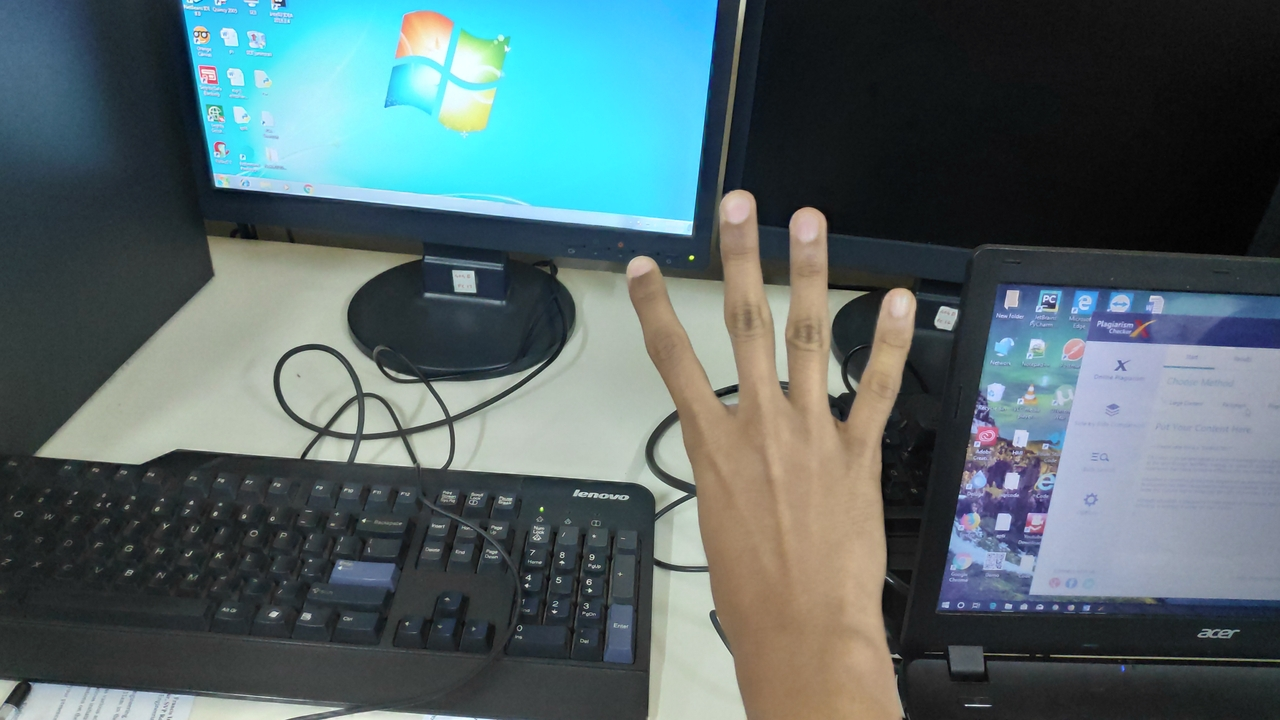fingertip: (612, 248, 674, 302), (712, 182, 768, 236), (874, 280, 930, 334), (784, 202, 838, 252)
